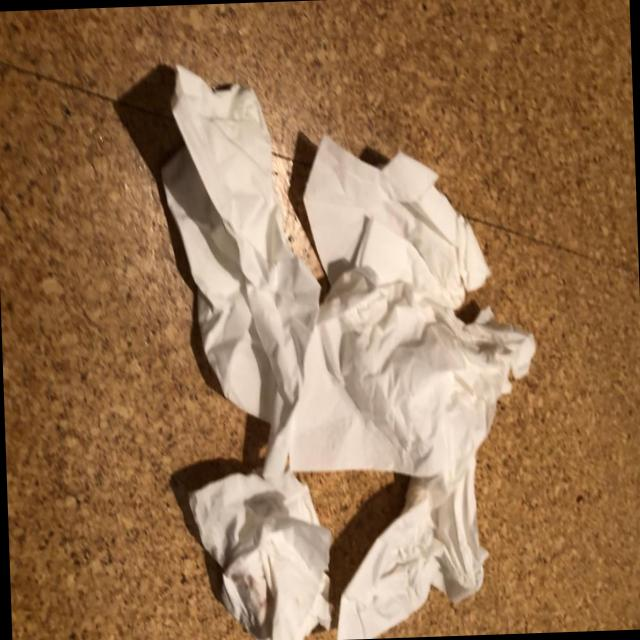organic waste: (266, 210, 550, 524), (144, 59, 328, 428), (299, 115, 490, 318), (324, 471, 498, 640), (182, 456, 336, 640)
